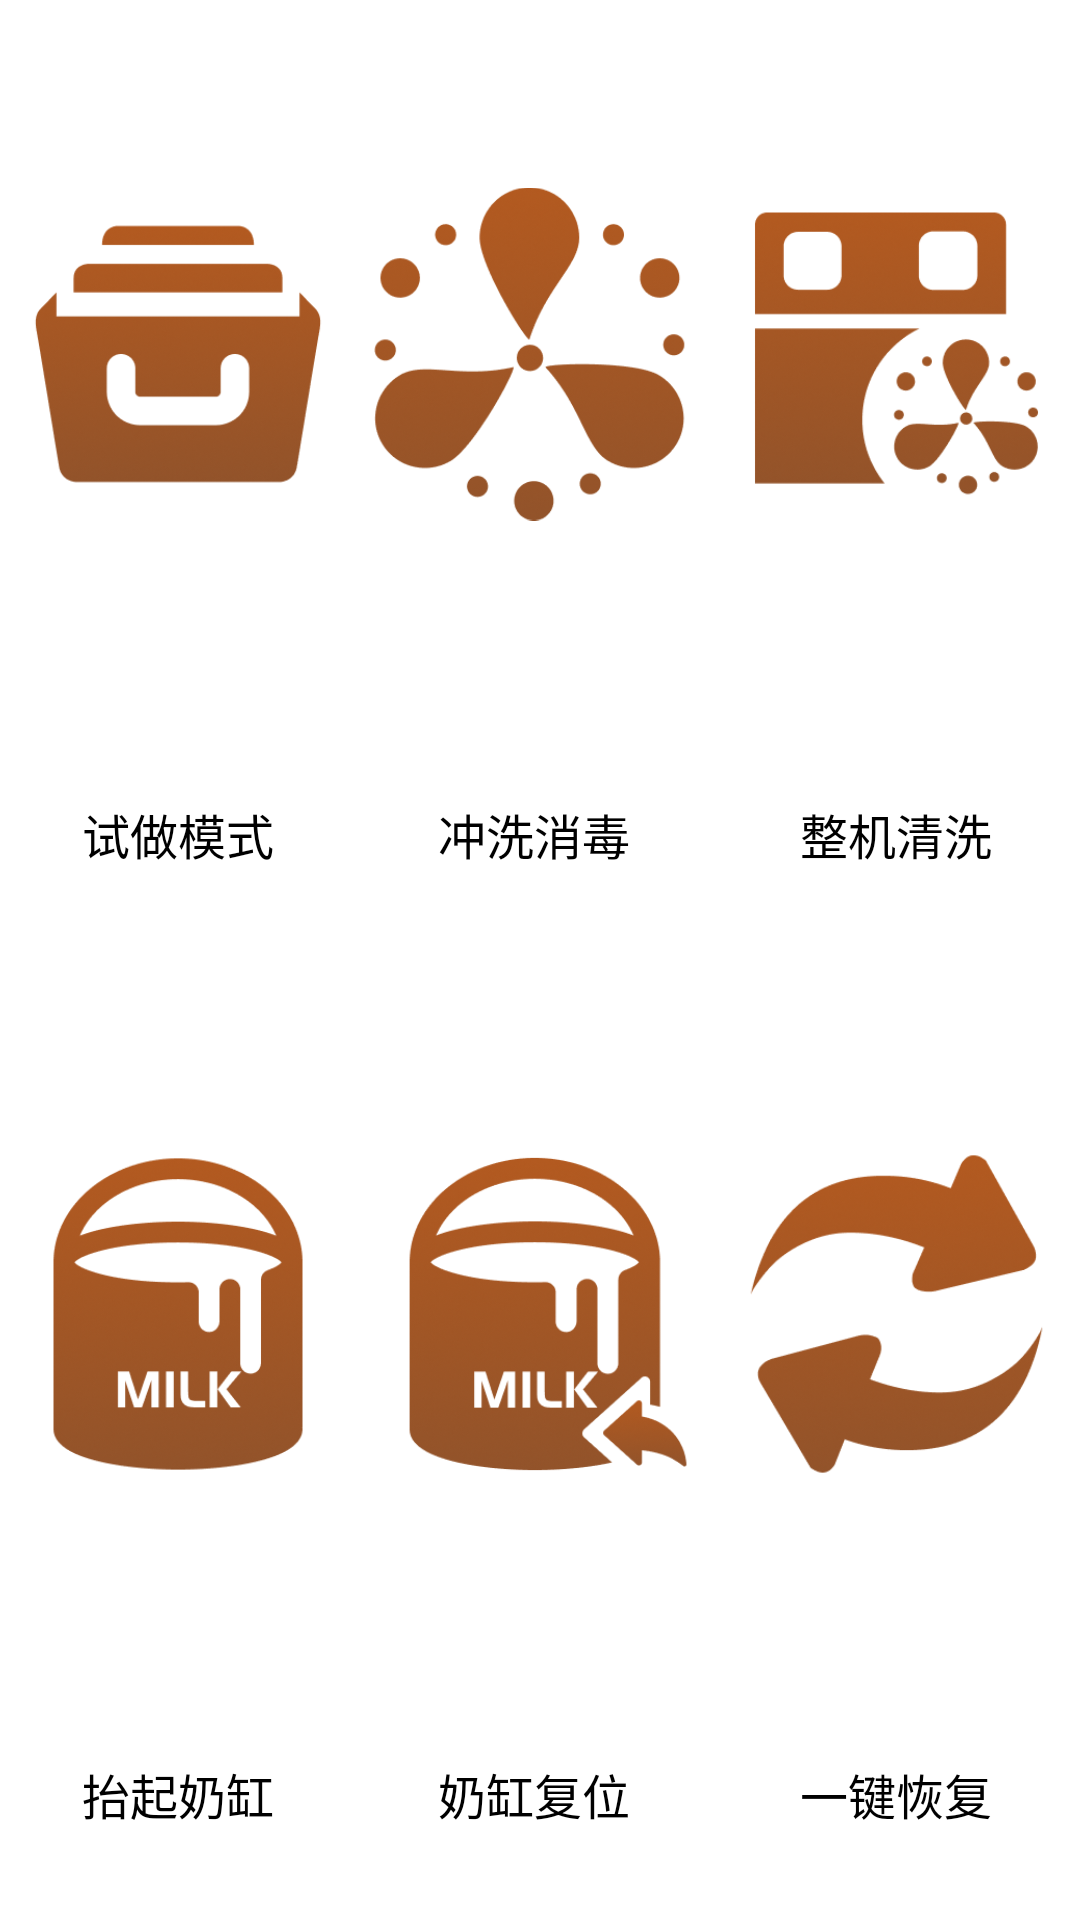

Icons on this 1080w x 1920h Android screen, each with its box as (x1, y1, x2, y2):
clean: (374, 188, 685, 521)
full clean: (755, 212, 1038, 495)
milk reset: (409, 1157, 687, 1470)
milk up: (53, 1158, 303, 1470)
recover: (751, 1155, 1043, 1473)
